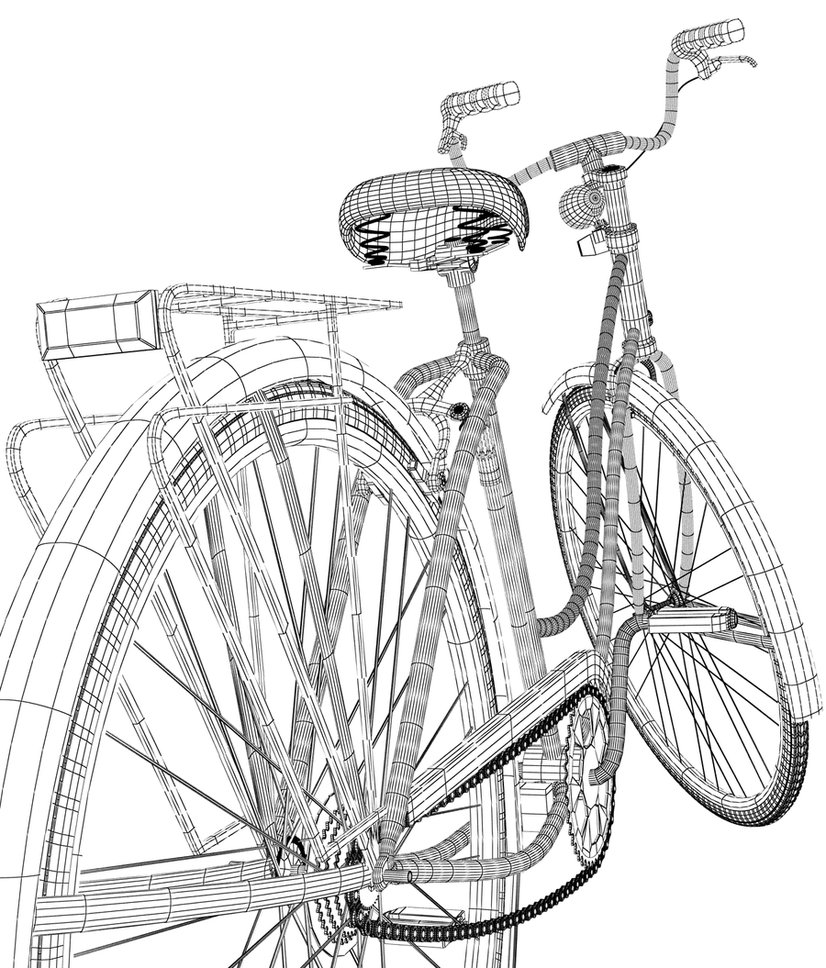bicycle: (1, 399, 663, 959)
